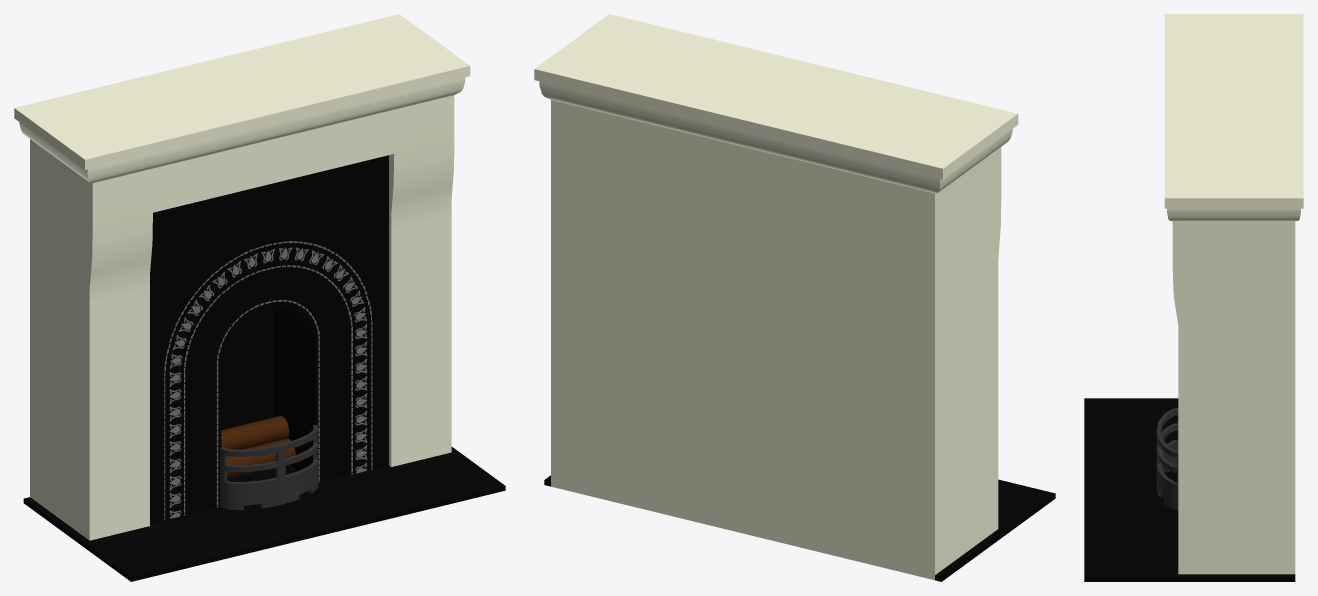
The model's file is fireplace1.glb.
3 views of the same model, side by side, from view 1: azimuth 30°, elevation 25°; view 2: azimuth 150°, elevation 25°; view 3: azimuth 270°, elevation 25° (orthographic). The views are drawn at different scales.
Parts seen in each view (by area): view 1: Fireplace, Grate, Log; view 2: Fireplace; view 3: Fireplace, Grate.
Boxes of the visible parts, bbox=[...] form: Fireplace: bbox=[14, 14, 505, 581]; Grate: bbox=[220, 424, 318, 510]; Log: bbox=[221, 415, 295, 477]; Fireplace: bbox=[534, 14, 1055, 581]; Fireplace: bbox=[1084, 14, 1303, 581]; Grate: bbox=[1156, 408, 1178, 509].
Bounding box in the file's own units: 2.13 × 2.08 × 1.07.
Materials: 4 (2 with a texture image).
